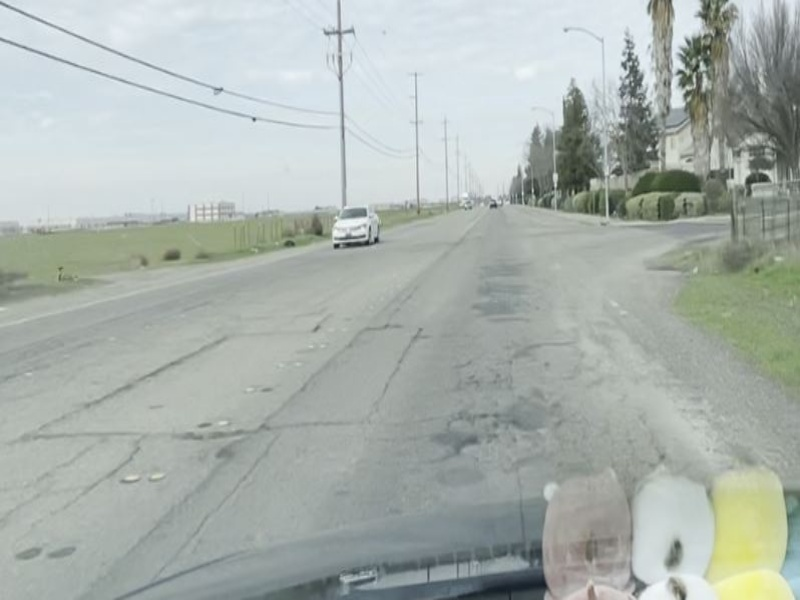pothole: (446, 434, 492, 457), (477, 414, 523, 431)
